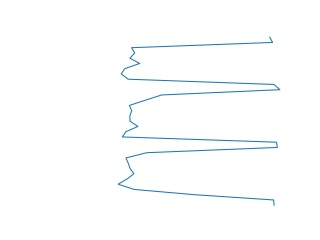majorRiverChannelBar: (116, 38, 283, 205)
